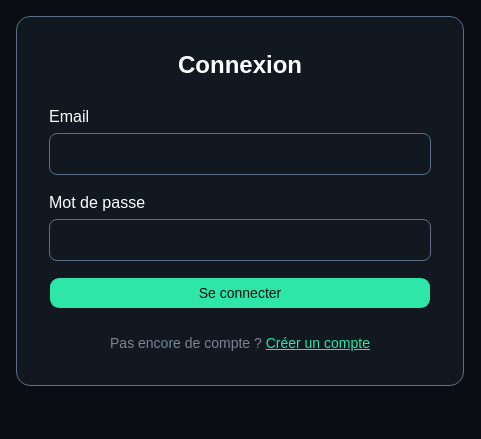
Test case: Écran de connexion (SH-20) › affiche un message d'erreur en français sur identifiants invalides
The image size is (481, 439).
Type "pilote@skillhunt.io" into the field labelled "Email".
click(240, 154); type("pilote@skillhunt.io")  # box [49,133,431,175]
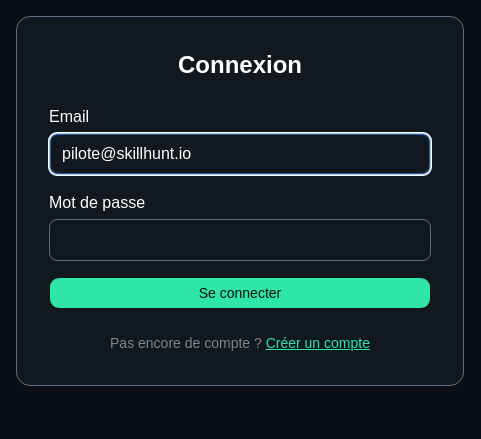
Type "mauvaispass" into the password field labelled "Mot de passe".
click(240, 240); type("mauvaispass")  # box [49,219,431,261]
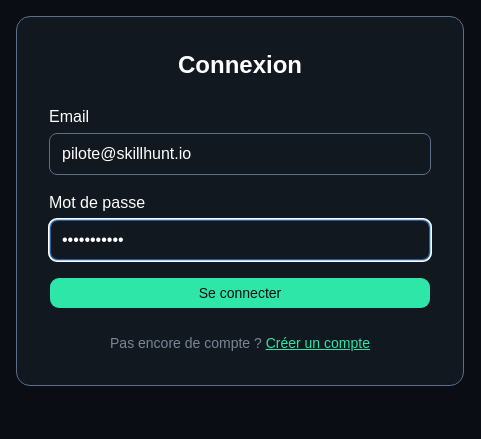
Click the button "Se connecter".
click(240, 293)  # box [49,277,431,309]
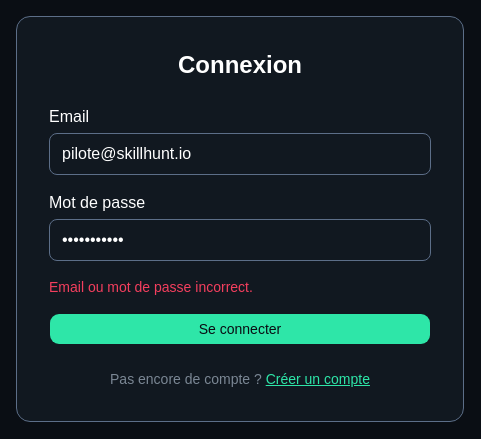
Expected: the message shows "Email ou mot de passe incorrect", [49,279,253,295]
